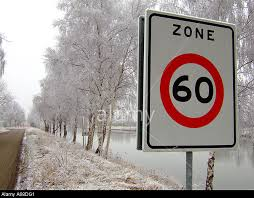Speed_limit_60km: (159, 53, 226, 127)
